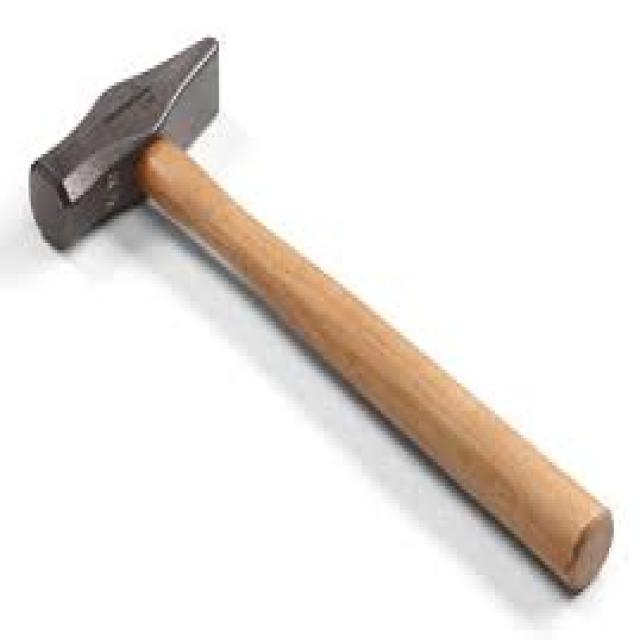Palu: (29, 24, 613, 602)
